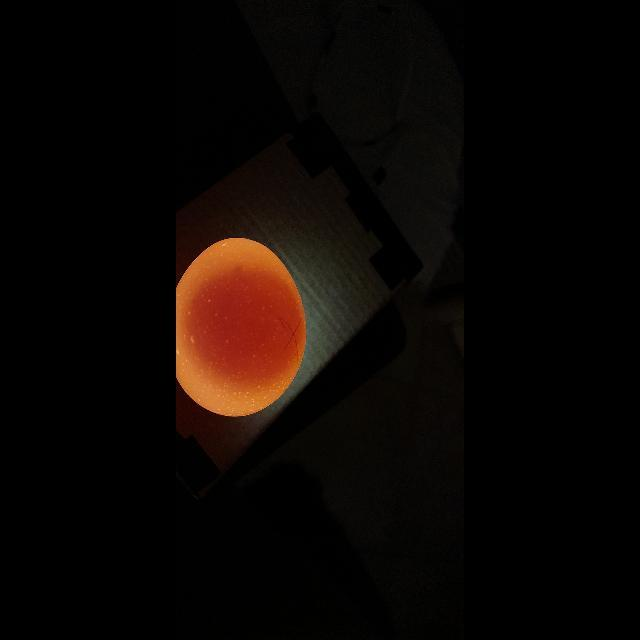Fertile: (178, 235, 308, 422)
